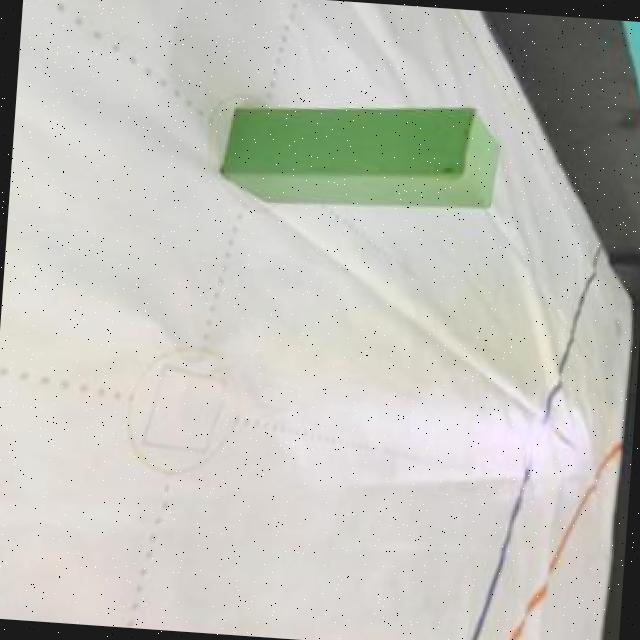greenbox: (216, 86, 507, 220)
